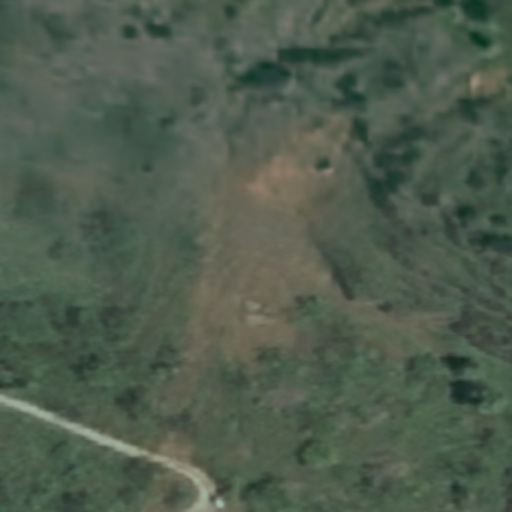landslide: (191, 112, 347, 357)
